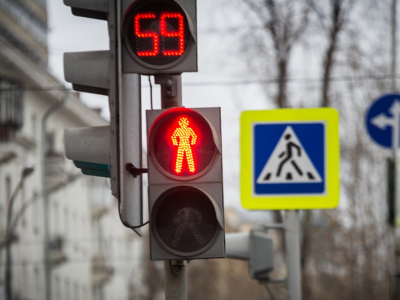crosswalk: (252, 125, 324, 191)
